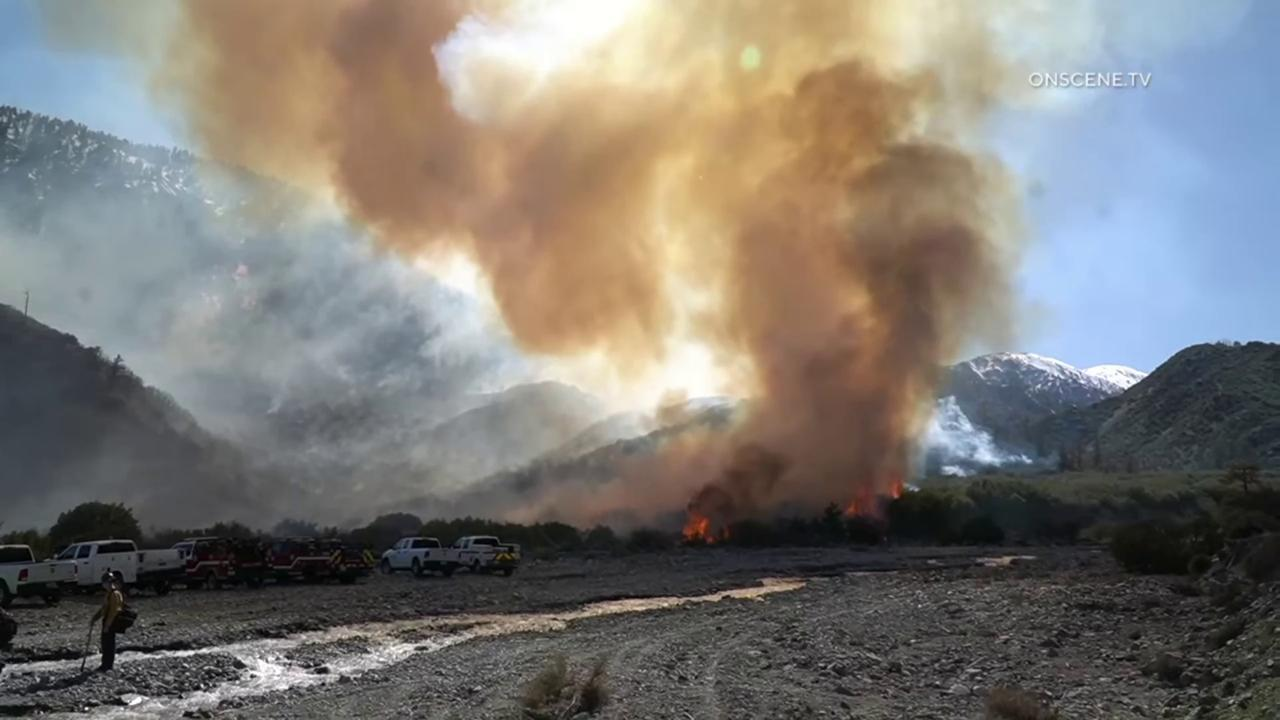fire: (681, 516, 714, 544), (844, 500, 858, 515), (891, 482, 901, 501)
smoke: (0, 0, 1128, 544)
